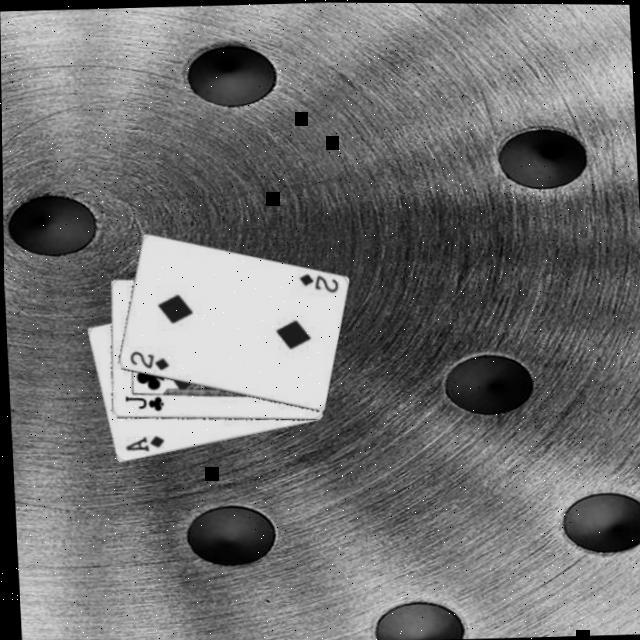2D: (296, 268, 342, 295), (124, 346, 170, 372)
AD: (120, 430, 166, 454)
JC: (120, 390, 165, 414)
